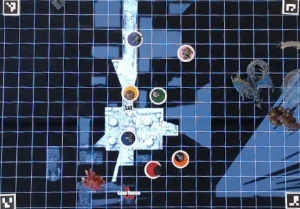blue: (118, 130, 135, 146)
green: (148, 84, 167, 104)
orange: (169, 148, 190, 169)
pink: (176, 44, 193, 62)
red: (142, 157, 162, 178)
violet: (126, 32, 145, 48)
yellow: (120, 83, 140, 102)
